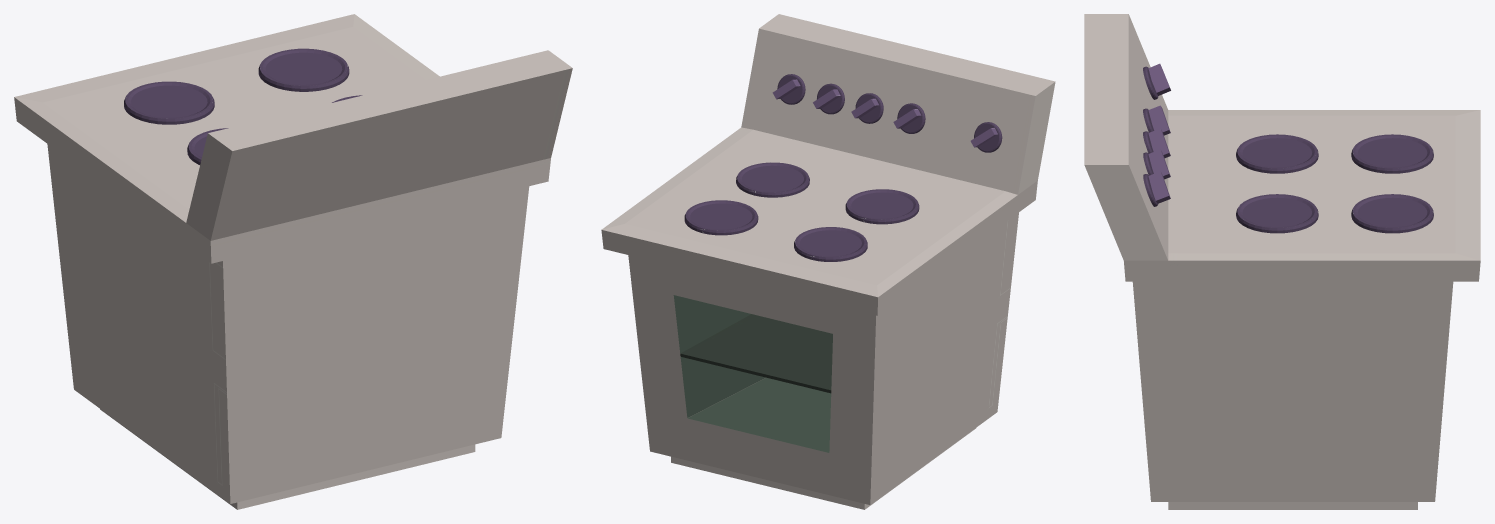
Rendered from EstufaRockoCuerpo.obj.
3 renders of one model, left to right at view 1: azimuth 30°, elevation 25°; view 2: azimuth 150°, elevation 25°; view 3: azimuth 270°, elevation 25°, orthographic. The views are drawn at different scales.
Visible parts, largest first — view 1: EstufaRockoCuerpo:Mesh; view 2: EstufaRockoCuerpo:Mesh; view 3: EstufaRockoCuerpo:Mesh.
Part boxes in pixels (bbox=[...]): EstufaRockoCuerpo:Mesh: bbox=[14, 14, 572, 509]; EstufaRockoCuerpo:Mesh: bbox=[601, 14, 1055, 509]; EstufaRockoCuerpo:Mesh: bbox=[1084, 14, 1480, 509].
Size of the model in its own units: 2.51 by 2.86 by 2.79.
Materials: 1 (1 with a texture image).
